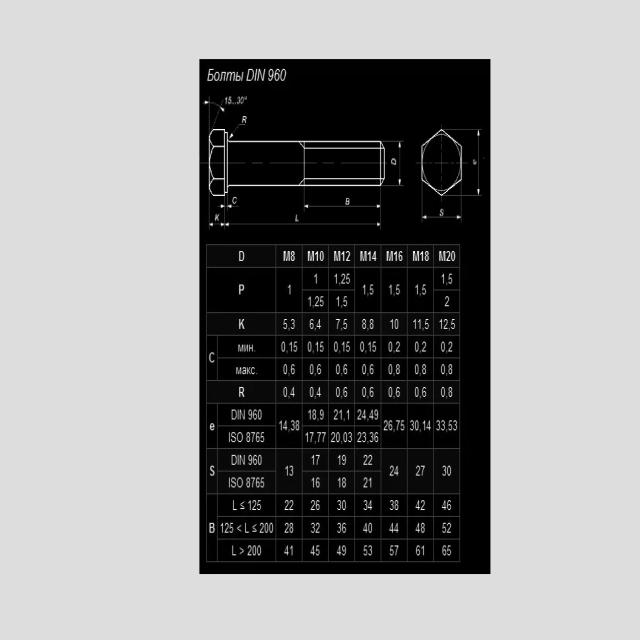marking_line: (224, 195, 382, 230), (303, 186, 381, 212), (462, 129, 482, 198), (421, 196, 463, 223), (385, 141, 404, 187), (202, 97, 225, 129), (207, 196, 226, 231), (218, 197, 239, 211), (229, 124, 246, 141)
numeric: (257, 70, 266, 82), (246, 68, 254, 81), (227, 71, 236, 81), (207, 69, 214, 81), (281, 68, 287, 81), (268, 68, 274, 81), (306, 340, 312, 353), (343, 317, 349, 329), (421, 340, 427, 352), (395, 363, 401, 375), (290, 386, 296, 398), (236, 71, 243, 81), (220, 71, 226, 82), (342, 386, 348, 397), (275, 68, 280, 81), (343, 295, 348, 308), (390, 157, 398, 165), (214, 71, 220, 81), (345, 196, 351, 206), (341, 273, 346, 285), (444, 295, 449, 307), (448, 273, 453, 285), (446, 250, 451, 262), (346, 250, 351, 262), (425, 318, 430, 330), (451, 318, 456, 330), (346, 340, 351, 352), (372, 340, 377, 352), (414, 340, 419, 352), (440, 340, 445, 352), (448, 341, 453, 353), (440, 363, 445, 375), (395, 387, 401, 397), (369, 385, 374, 397), (296, 419, 301, 431), (319, 409, 324, 421), (310, 431, 315, 443), (333, 408, 338, 420), (400, 419, 405, 431), (448, 420, 453, 432), (348, 431, 353, 443), (357, 431, 362, 443), (415, 464, 420, 476), (342, 499, 347, 511), (289, 522, 294, 534), (310, 522, 315, 534), (389, 544, 394, 556), (372, 251, 377, 262), (451, 250, 456, 261), (425, 251, 430, 262), (319, 250, 324, 261), (290, 318, 295, 329), (309, 318, 314, 329), (317, 319, 322, 330), (335, 318, 340, 329), (395, 318, 400, 329), (443, 319, 448, 330), (293, 341, 298, 352), (395, 341, 400, 352), (448, 364, 453, 375), (335, 363, 340, 374), (317, 364, 322, 375), (448, 386, 453, 397), (422, 386, 427, 397), (388, 386, 393, 397), (309, 386, 314, 397), (290, 420, 295, 431), (316, 432, 321, 443), (362, 409, 367, 420), (369, 409, 374, 420), (409, 420, 414, 431), (435, 420, 440, 431), (453, 420, 458, 431), (374, 432, 379, 443), (369, 431, 374, 442), (362, 432, 367, 443), (289, 465, 294, 476), (316, 454, 321, 465), (315, 477, 320, 488), (341, 454, 346, 465), (368, 454, 373, 465), (389, 466, 394, 477), (394, 465, 399, 476), (421, 466, 426, 477), (447, 465, 452, 476), (447, 500, 452, 511), (442, 500, 447, 511), (421, 500, 426, 511), (394, 500, 399, 511), (290, 499, 295, 510), (284, 545, 289, 556), (315, 522, 320, 533), (337, 522, 342, 533), (368, 545, 373, 556), (394, 545, 399, 556), (442, 522, 447, 533), (447, 522, 452, 533), (308, 295, 312, 308), (398, 251, 403, 261), (362, 319, 367, 329), (388, 364, 393, 374), (369, 365, 374, 375), (343, 365, 348, 375), (309, 364, 314, 374), (415, 387, 420, 397), (317, 387, 322, 397), (282, 421, 287, 431), (312, 410, 317, 420), (374, 409, 379, 419), (426, 420, 431, 430), (363, 477, 368, 487), (368, 478, 373, 488), (415, 500, 420, 510), (368, 500, 373, 510), (311, 500, 316, 510), (284, 500, 289, 510), (284, 523, 289, 533), (363, 523, 368, 533), (389, 523, 394, 533), (394, 523, 399, 533), (416, 523, 421, 533), (315, 295, 319, 307), (320, 295, 324, 307), (346, 273, 350, 285), (396, 283, 400, 295), (420, 250, 424, 262), (341, 250, 345, 262), (360, 340, 364, 352), (388, 340, 392, 352), (441, 386, 445, 398), (305, 432, 309, 444), (322, 431, 326, 443), (415, 419, 419, 431), (336, 431, 340, 443), (285, 465, 289, 477), (342, 476, 346, 488), (364, 454, 368, 466), (342, 522, 346, 534), (337, 544, 341, 556), (364, 544, 368, 556), (439, 208, 444, 217), (291, 251, 295, 262), (287, 284, 291, 295), (334, 273, 338, 284), (370, 284, 374, 295), (423, 284, 427, 295), (441, 274, 445, 285), (283, 318, 287, 329), (370, 318, 374, 329), (390, 319, 394, 330), (281, 341, 285, 352), (316, 341, 320, 352), (320, 341, 324, 352), (422, 363, 426, 374), (415, 364, 419, 375), (363, 386, 367, 397), (336, 386, 340, 397), (284, 387, 288, 398), (346, 409, 350, 420), (383, 420, 387, 431), (389, 420, 393, 431), (441, 420, 445, 431), (331, 432, 335, 443), (343, 432, 347, 443), (311, 477, 315, 488), (337, 455, 341, 466), (442, 465, 446, 476), (390, 500, 394, 511), (337, 500, 341, 511), (316, 545, 320, 556), (342, 545, 346, 556), (368, 523, 372, 534), (416, 545, 420, 556), (421, 522, 425, 533), (442, 545, 446, 556), (447, 545, 451, 556), (295, 213, 299, 223), (415, 285, 419, 295), (367, 251, 371, 261), (439, 319, 443, 329), (334, 342, 338, 352), (362, 364, 366, 374), (291, 364, 295, 374), (283, 364, 287, 374), (308, 410, 312, 420), (357, 409, 361, 419), (311, 455, 315, 465), (316, 500, 320, 510), (228, 96, 232, 105), (237, 96, 241, 105), (242, 115, 246, 124), (215, 213, 219, 222), (314, 273, 317, 285), (389, 284, 392, 296), (316, 250, 319, 262), (414, 318, 417, 330), (289, 341, 292, 353), (279, 420, 282, 432), (396, 419, 399, 431), (336, 296, 339, 307), (363, 284, 366, 295), (394, 251, 397, 262), (418, 318, 421, 329), (342, 342, 345, 353), (368, 341, 371, 352), (339, 409, 342, 420), (423, 420, 426, 431), (338, 476, 341, 487), (311, 545, 314, 556), (421, 545, 424, 556), (233, 196, 237, 204), (364, 500, 367, 510), (290, 546, 293, 556), (224, 97, 228, 104), (241, 96, 244, 104), (473, 159, 477, 165)
special_symbol: (340, 326, 343, 332), (244, 95, 247, 100), (445, 428, 448, 433), (339, 282, 342, 287), (419, 429, 422, 433), (445, 396, 448, 400), (445, 373, 448, 377), (419, 373, 422, 377), (419, 350, 422, 354), (419, 293, 422, 297), (312, 350, 315, 354), (314, 441, 317, 445), (288, 429, 291, 433), (340, 395, 343, 399), (340, 441, 343, 445), (312, 304, 314, 309), (420, 395, 422, 400), (393, 395, 395, 400), (393, 350, 395, 355), (288, 327, 290, 332), (422, 328, 424, 332), (393, 429, 395, 433), (446, 350, 448, 354), (446, 282, 448, 286), (393, 293, 395, 297), (367, 293, 369, 297), (314, 327, 316, 331), (286, 350, 288, 354), (288, 373, 290, 377), (343, 418, 345, 422), (317, 418, 319, 422), (288, 395, 290, 399), (315, 395, 317, 399), (341, 373, 343, 377), (367, 373, 369, 377), (367, 395, 369, 399), (233, 102, 235, 105), (393, 373, 395, 376), (341, 305, 343, 308), (314, 373, 316, 376), (367, 441, 369, 444), (231, 103, 233, 105), (449, 328, 450, 332), (235, 102, 236, 105)
